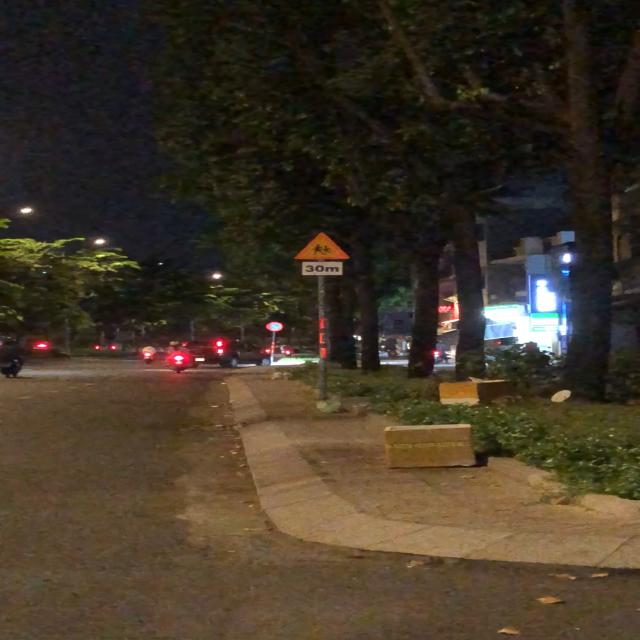Bien bao tre em: (289, 231, 352, 262)
